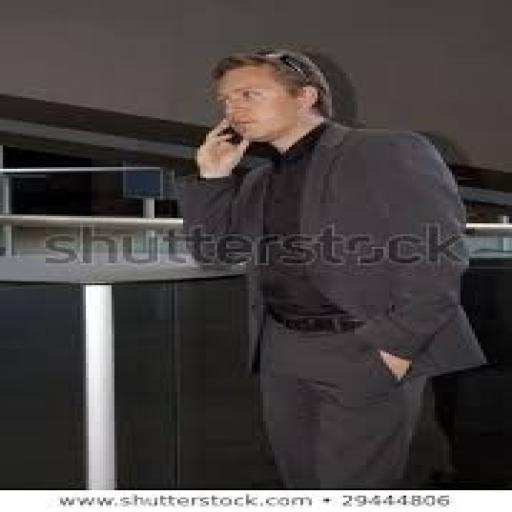calling: (172, 46, 489, 488)
